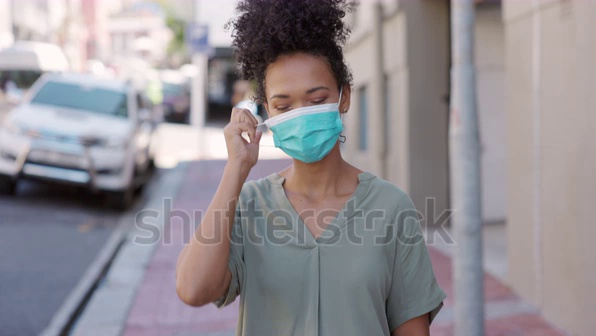Mask: (254, 98, 353, 166)
